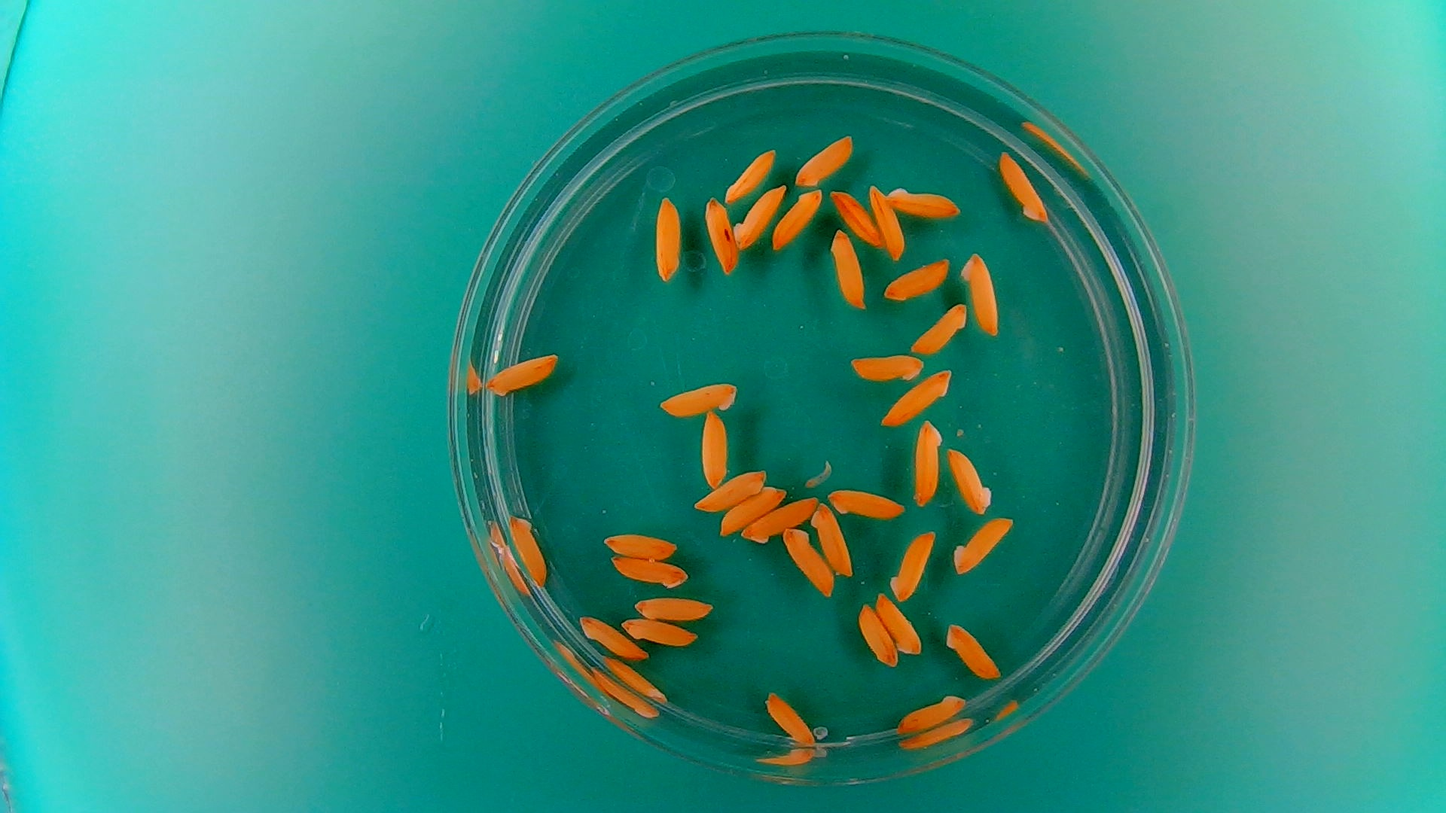no: (737, 491, 818, 547), (880, 367, 954, 428), (995, 147, 1050, 226), (781, 522, 836, 598), (950, 513, 1016, 576), (484, 349, 562, 399), (887, 526, 938, 602), (732, 183, 788, 252), (944, 443, 995, 517), (654, 376, 741, 419), (959, 251, 1002, 337), (692, 465, 769, 513), (719, 483, 786, 536), (944, 619, 1002, 680), (576, 612, 648, 660), (770, 186, 824, 250), (792, 132, 855, 186), (810, 501, 854, 578), (505, 512, 549, 589), (829, 225, 868, 311), (909, 301, 970, 355), (874, 590, 923, 656), (830, 187, 883, 248), (882, 256, 952, 302), (601, 655, 669, 702), (651, 190, 685, 283), (700, 193, 738, 276), (764, 690, 817, 748), (894, 692, 967, 734), (698, 406, 733, 492), (911, 417, 944, 507), (723, 147, 776, 203), (868, 183, 906, 261), (883, 183, 962, 219), (856, 601, 898, 668), (609, 555, 688, 590), (826, 486, 907, 520), (848, 351, 926, 384), (630, 593, 715, 622), (602, 529, 679, 560), (621, 617, 697, 648)
